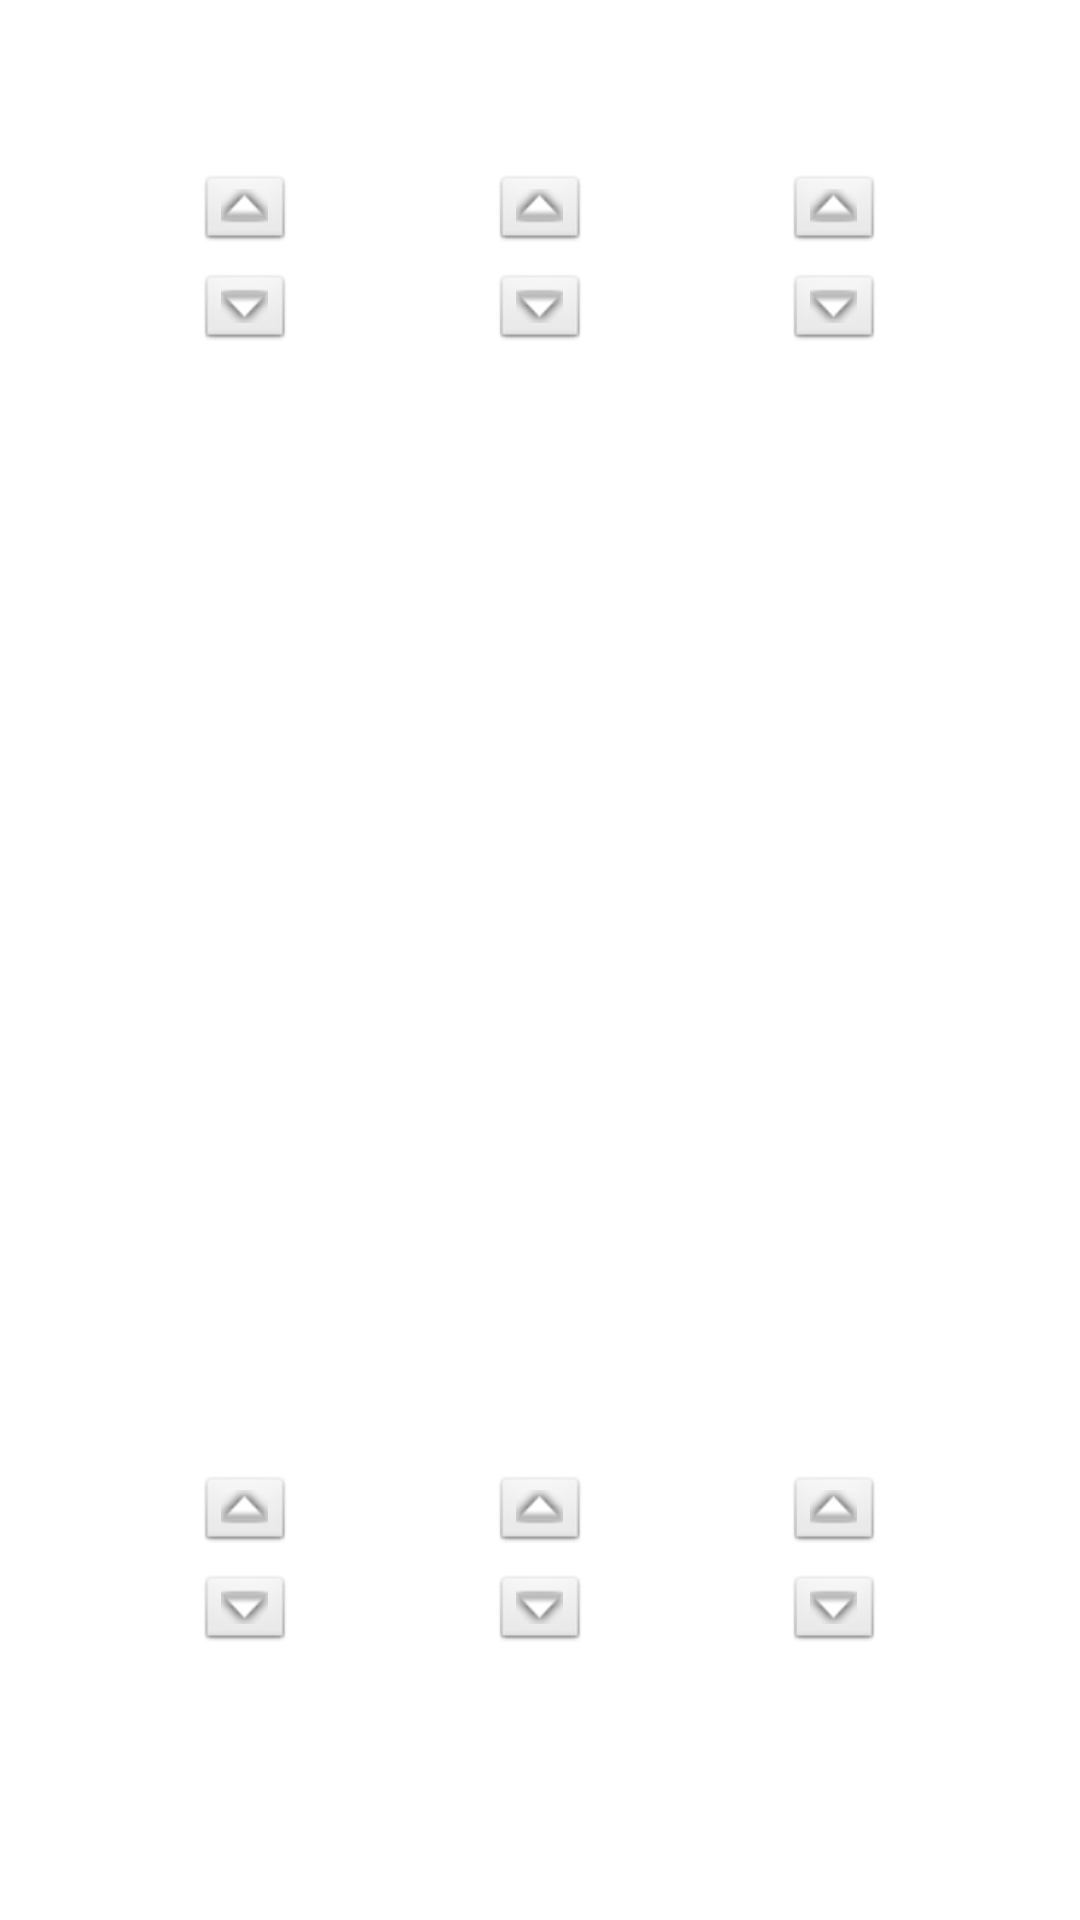

Locate icon controls on the screen. Image size 1080 x 1920, boxes as (x1, y1, x2, y2).
DOWN: (204, 275, 286, 340), (499, 275, 581, 340), (793, 275, 875, 340), (204, 1576, 286, 1641), (499, 1576, 581, 1641), (793, 1576, 875, 1641)
UP: (204, 176, 286, 241), (499, 176, 581, 241), (793, 176, 875, 241), (204, 1477, 286, 1542), (499, 1477, 581, 1542), (793, 1477, 875, 1542)
